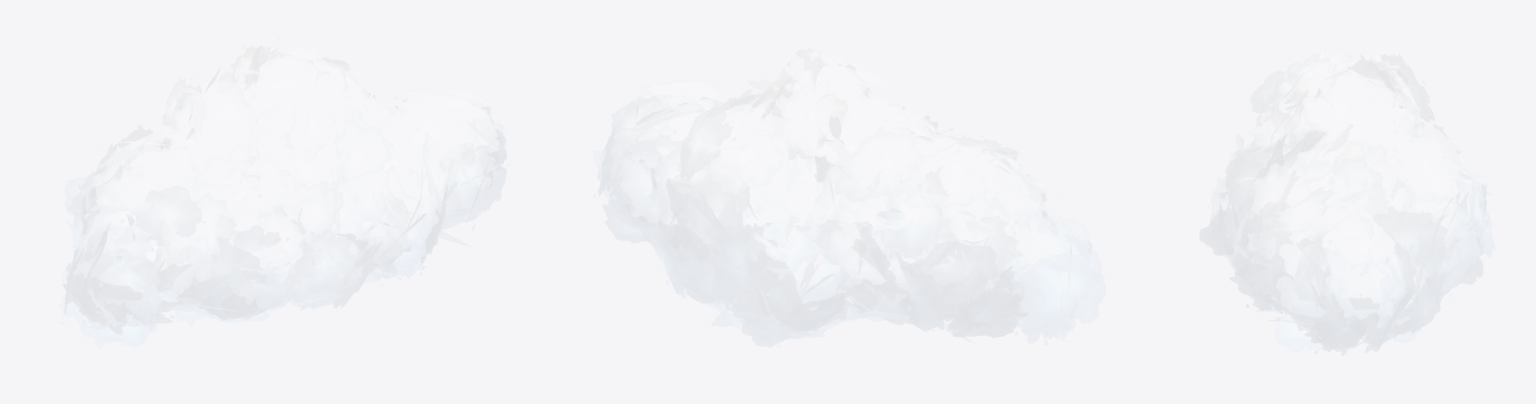
Rendered from cloud.glb.
The picture shows the model from 3 angles, left to right: view 1: azimuth 30°, elevation 25°; view 2: azimuth 150°, elevation 25°; view 3: azimuth 270°, elevation 25°; orthographic projection. The views are drawn at different scales.
Size of the model in its own units: 9.97 by 5.59 by 6.02.
Materials: 3 (3 with a texture image).
